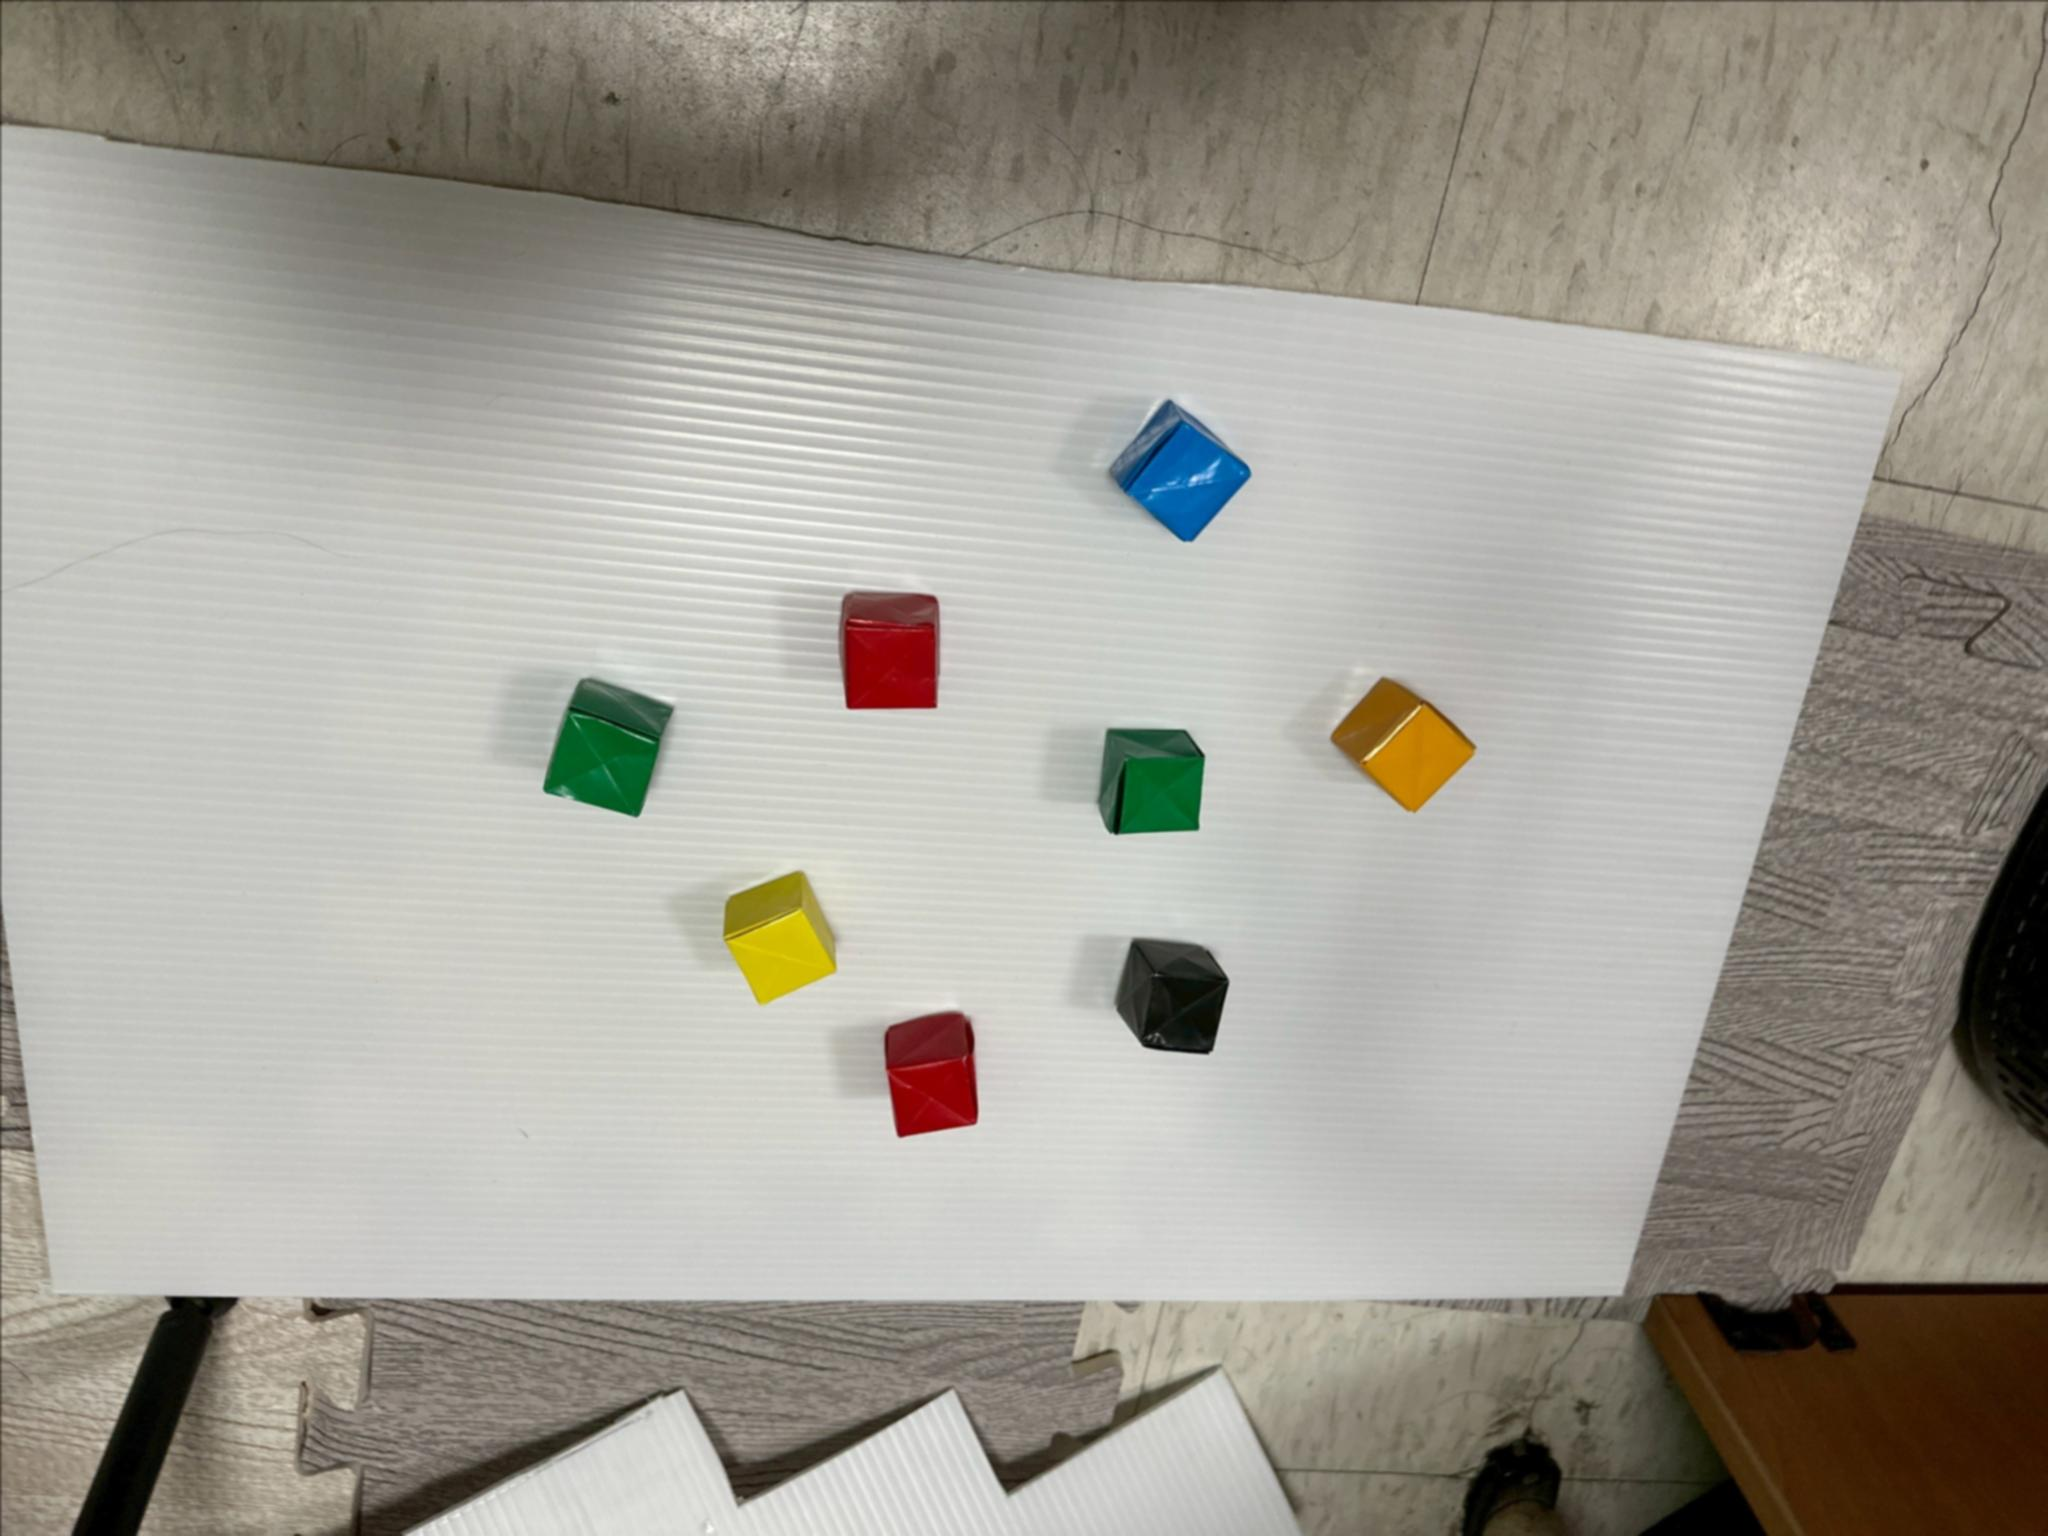cube: (1111, 400, 1250, 541), (1332, 678, 1474, 812), (543, 678, 671, 815), (724, 871, 835, 1004), (1116, 941, 1229, 1054), (884, 1012, 977, 1136), (1098, 728, 1205, 834), (842, 592, 939, 708)
